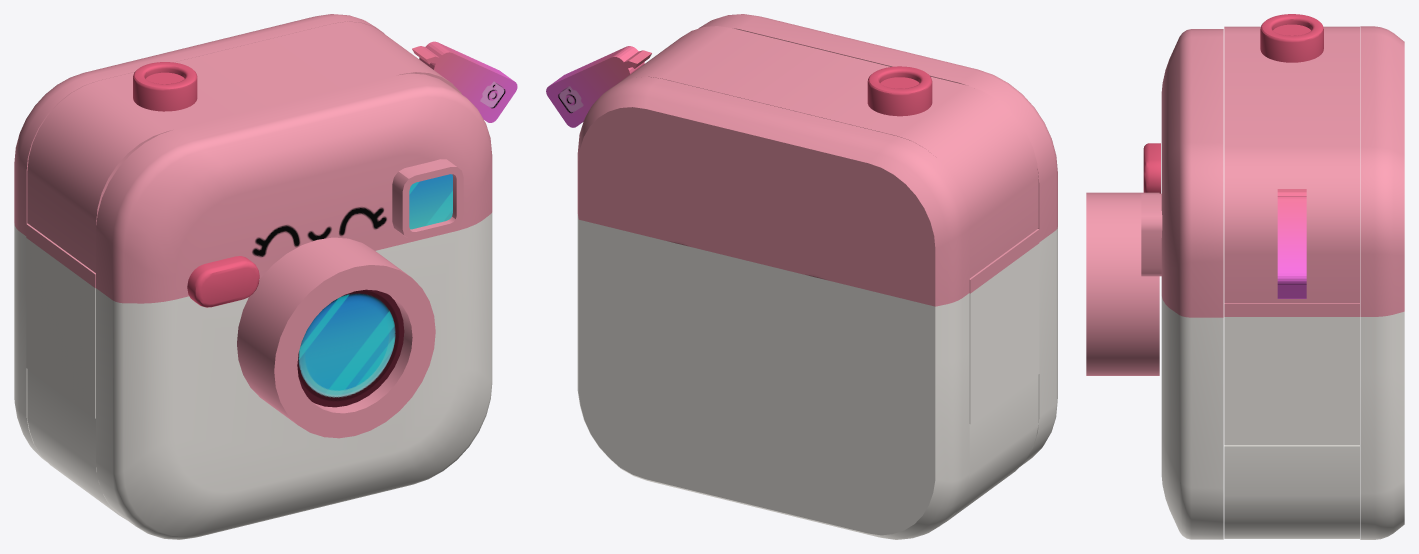
File: level_3.fbx
3 renders of one model, left to right at view 1: azimuth 30°, elevation 25°; view 2: azimuth 150°, elevation 25°; view 3: azimuth 270°, elevation 25°, orthographic. The views are drawn at different scales.
Visible parts, largest first — view 1: Cube.014, Cube.015, Cylinder, Cube.002, Cube.006, Cube.009, Cube.003, Cube.004, Cube.011, Cube.010, Cube.005, Cylinder.001 (+2 smaller); view 2: Cube.011, Cube.001, Cube.012, Cube.013, Cube.002, Cube.006, Cube.009, Cube.015, Cube.003, Cube.014, Cube.010, Cylinder.001; view 3: Cube.009, Cube.007, Cube.015, Cube.014, Cube.008, Cube.012, Cylinder, Cube.013, Cube.002, Cube.010, Cube.011, Cylinder.001 (+2 smaller).
Part boxes in pixels (left/top/right/bottom): Cube.014: left=96, top=212, right=492, bottom=539; Cube.015: left=96, top=73, right=492, bottom=303; Cylinder: left=237, top=237, right=435, bottom=438; Cube.002: left=27, top=52, right=283, bottom=272; Cube.006: left=26, top=223, right=95, bottom=418; Cube.009: left=216, top=21, right=461, bottom=102; Cube.003: left=27, top=369, right=125, bottom=519; Cube.004: left=392, top=159, right=463, bottom=239; Cube.011: left=14, top=44, right=215, bottom=293; Cube.010: left=412, top=41, right=517, bottom=122; Cube.005: left=187, top=256, right=259, bottom=307; Cylinder.001: left=133, top=62, right=197, bottom=111; Cube.011: left=757, top=107, right=969, bottom=364; Cube.001: left=757, top=321, right=969, bottom=539; Cube.012: left=577, top=76, right=779, bottom=320; Cube.013: left=577, top=272, right=761, bottom=508; Cube.002: left=780, top=56, right=1038, bottom=278; Cube.006: left=969, top=229, right=1039, bottom=424; Cube.009: left=618, top=26, right=848, bottom=107; Cube.015: left=698, top=14, right=1057, bottom=242; Cube.003: left=943, top=374, right=1038, bottom=523; Cube.014: left=1020, top=227, right=1057, bottom=466; Cube.010: left=546, top=46, right=651, bottom=127; Cylinder.001: left=867, top=66, right=932, bottom=116; Cube.009: left=1224, top=90, right=1359, bottom=303; Cube.007: left=1224, top=303, right=1359, bottom=445; Cube.015: left=1161, top=29, right=1223, bottom=317; Cube.014: left=1161, top=296, right=1223, bottom=539; Cube.008: left=1224, top=445, right=1359, bottom=538; Cube.012: left=1360, top=90, right=1404, bottom=373; Cylinder: left=1086, top=192, right=1159, bottom=375; Cube.013: left=1360, top=368, right=1404, bottom=539; Cube.002: left=1224, top=26, right=1359, bottom=90; Cube.010: left=1277, top=189, right=1306, bottom=298; Cube.011: left=1360, top=26, right=1404, bottom=101; Cylinder.001: left=1260, top=14, right=1323, bottom=62.
Bounding box in the file's own units: 9.29 × 8.27 × 5.8.
